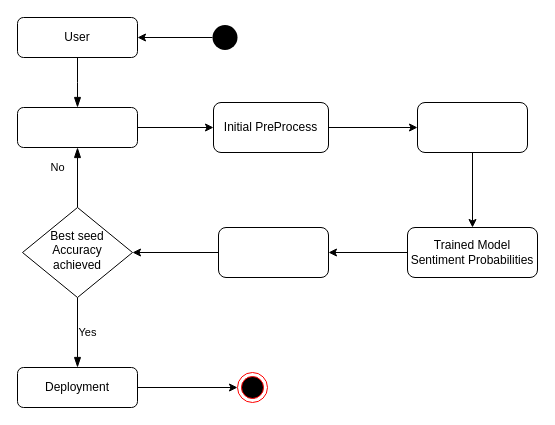
This 555x425 diagram has some shape labels left out. The centre of each missing label's shape, as x and y in pixels:
Final Sentiment: point 273,252
Model: point 472,127
Tweets Dataset: point 77,127
